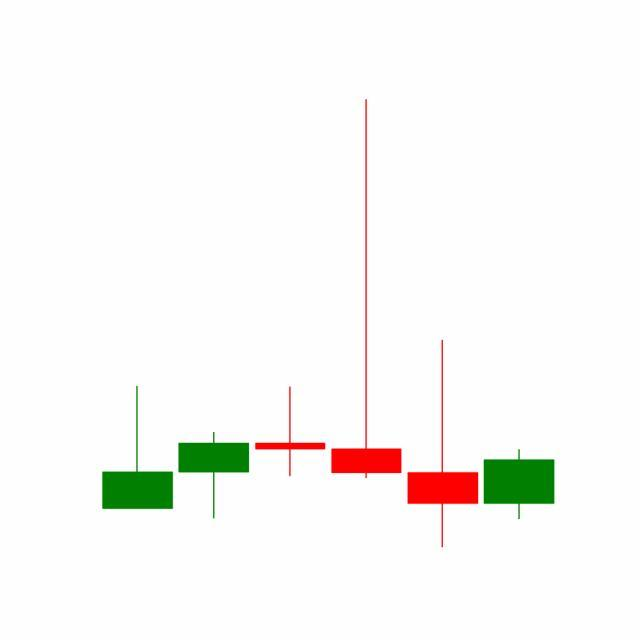Spinning Top: (404, 338, 482, 551)
